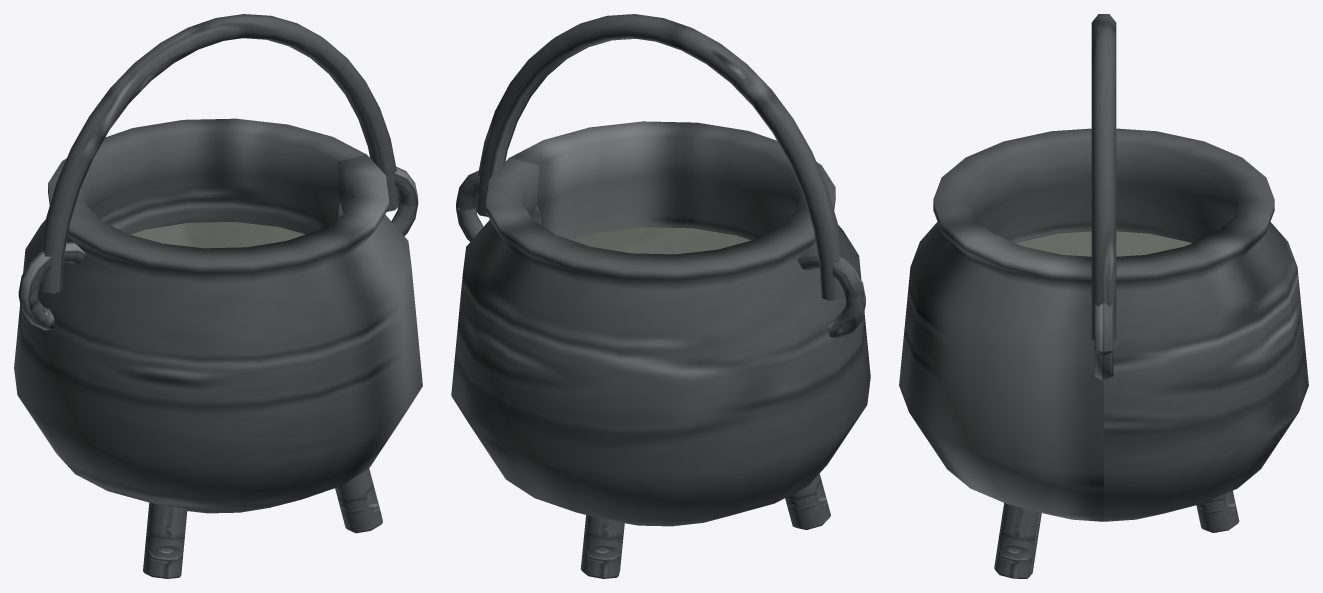
The model's file is SM_Cauldron.glb.
3 views of the same model, side by side, from view 1: azimuth 30°, elevation 25°; view 2: azimuth 150°, elevation 25°; view 3: azimuth 270°, elevation 25° (orthographic). The views are drawn at different scales.
Parts seen in each view (by area): view 1: SM_Cauldron; view 2: SM_Cauldron; view 3: SM_Cauldron.
Part boxes in pixels (x1,y1,x2,y2): SM_Cauldron: (14,14,422,578); SM_Cauldron: (451,14,870,578); SM_Cauldron: (899,14,1308,578).
Size of the model in its own units: 0.8076 by 0.9671 by 0.72.
Materials: 1 (1 with a texture image).
